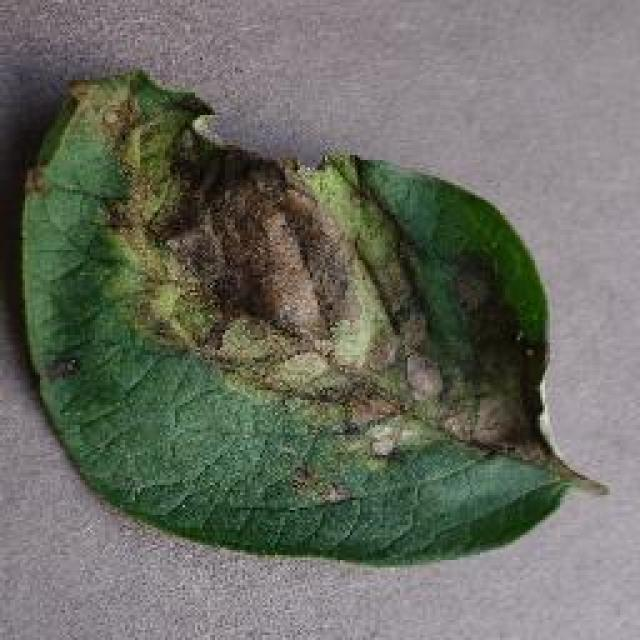late_blight: (15, 65, 607, 570)
